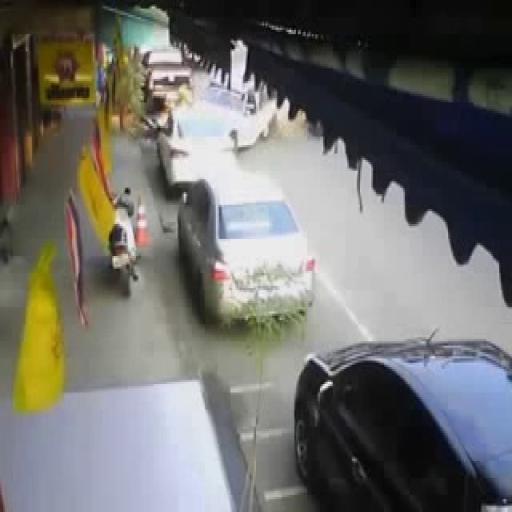Car: (303, 327, 512, 512), (178, 183, 310, 327), (203, 71, 278, 145), (163, 111, 238, 184), (142, 50, 194, 104)
Minor Accident: (183, 88, 273, 176)
Motor: (101, 188, 145, 300)
